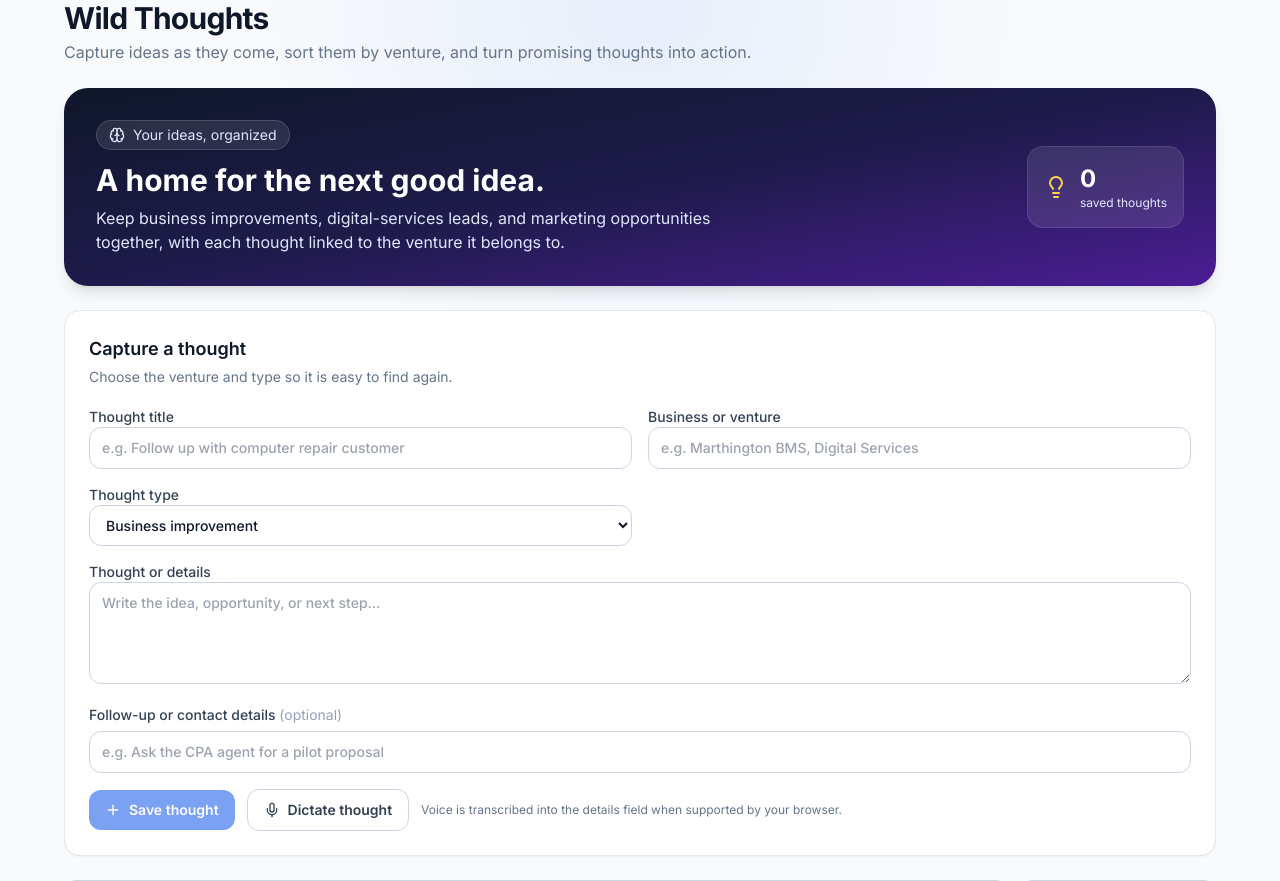
WildThoughts › edits a saved thought
Type "Original idea" into the field labelled "Thought title" at (360, 448), box [89, 427, 632, 469]
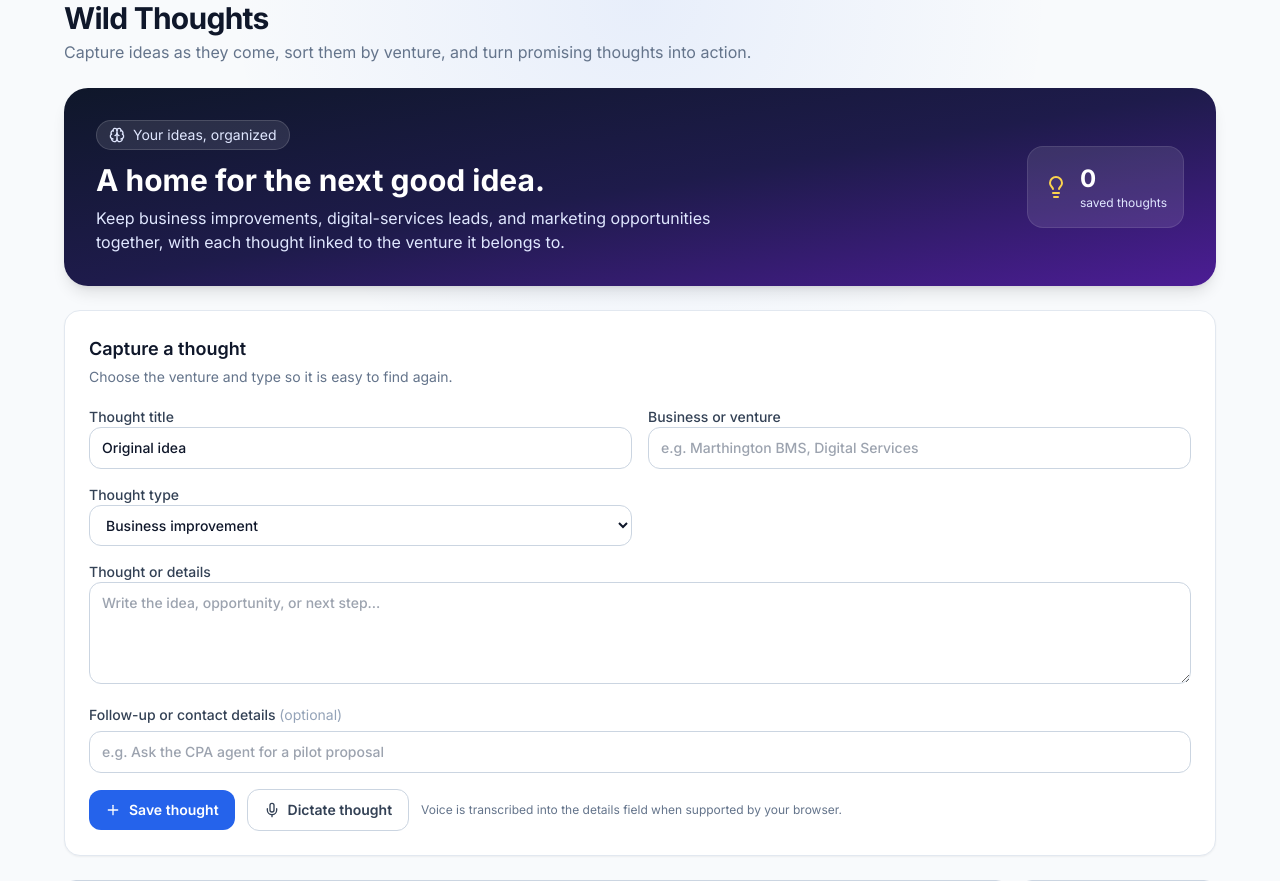
Type "Original details" into the text box labelled "Thought or details" at (640, 633), box [89, 582, 1191, 684]
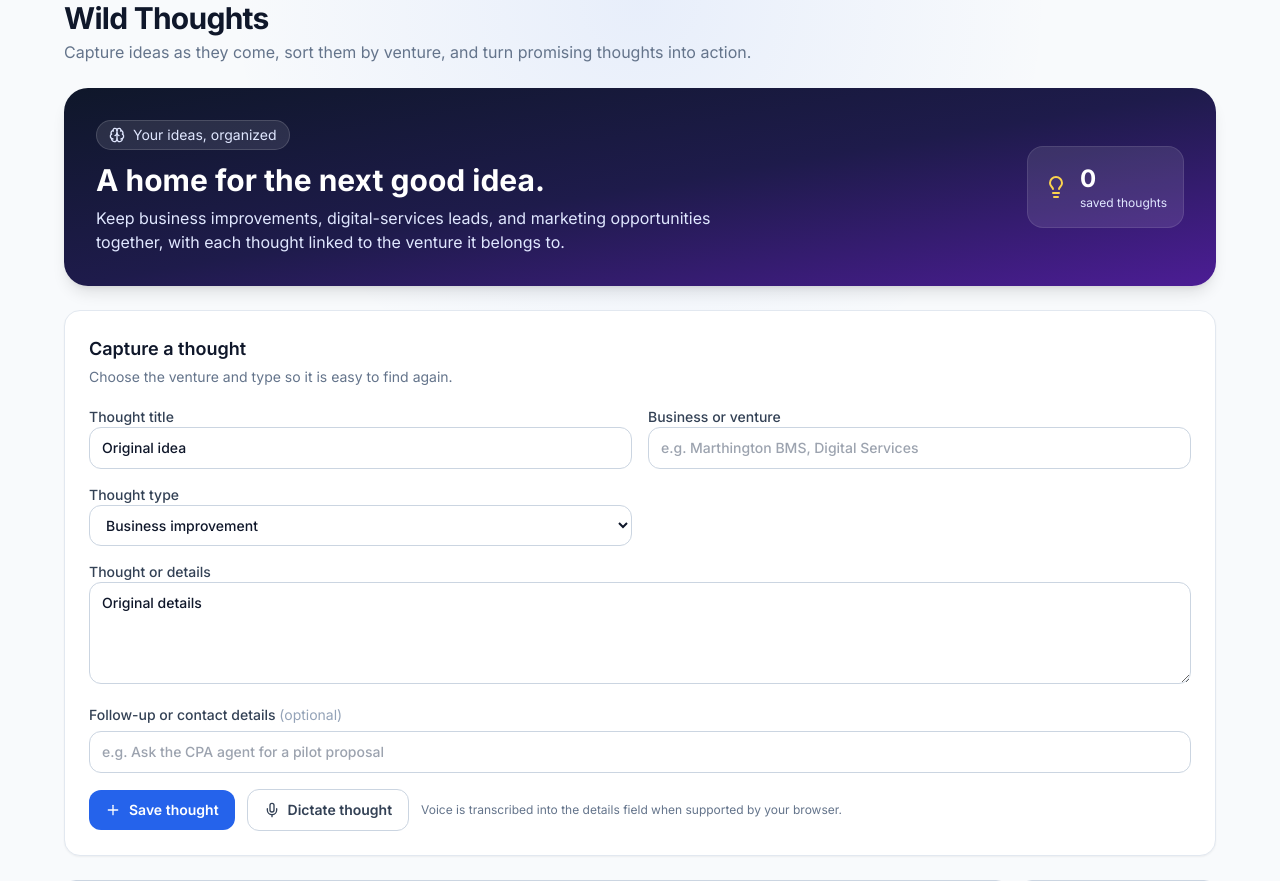
Click the button "Save thought" at (162, 810), box [89, 790, 235, 830]
(page scrolled)
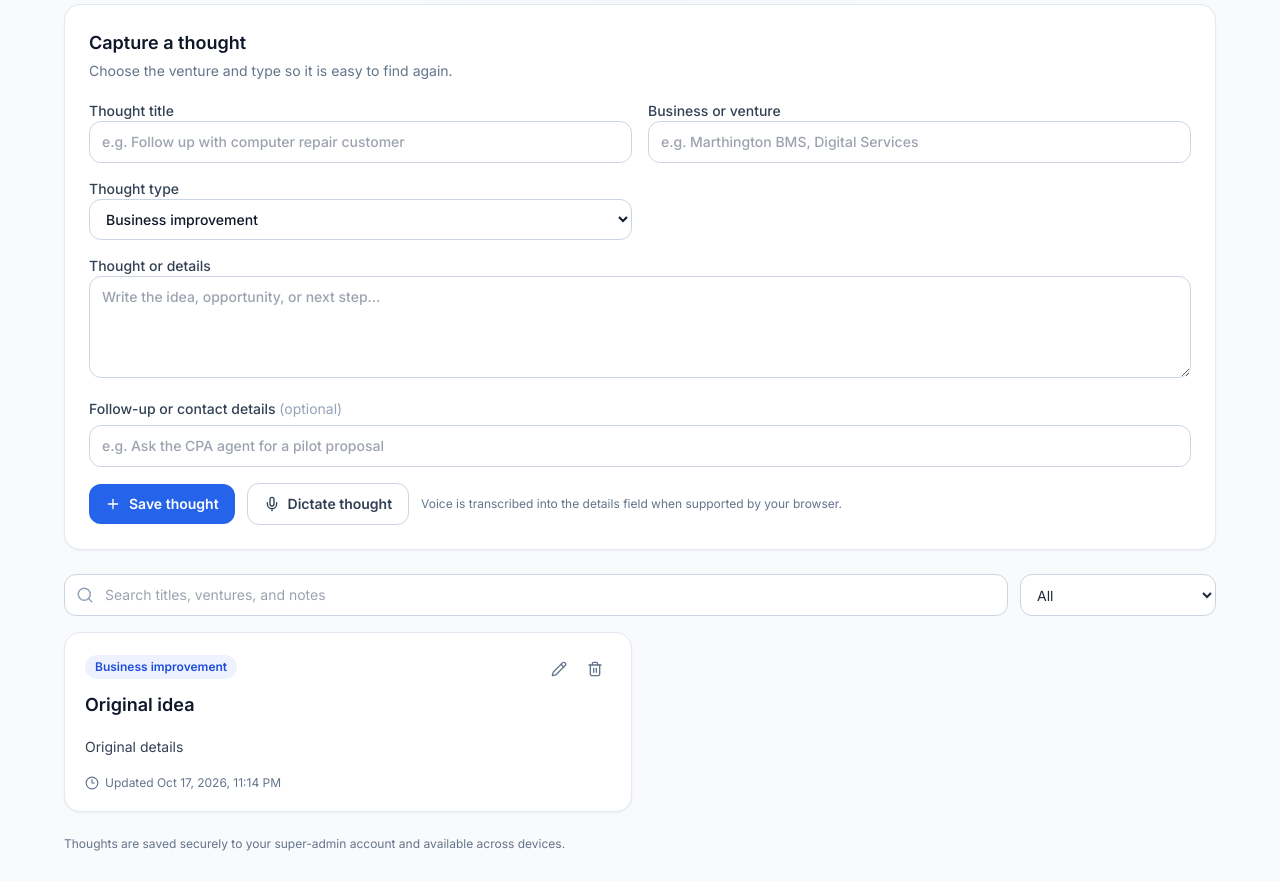
Click the button named "Edit Original idea" at (559, 669), box [543, 653, 575, 685]
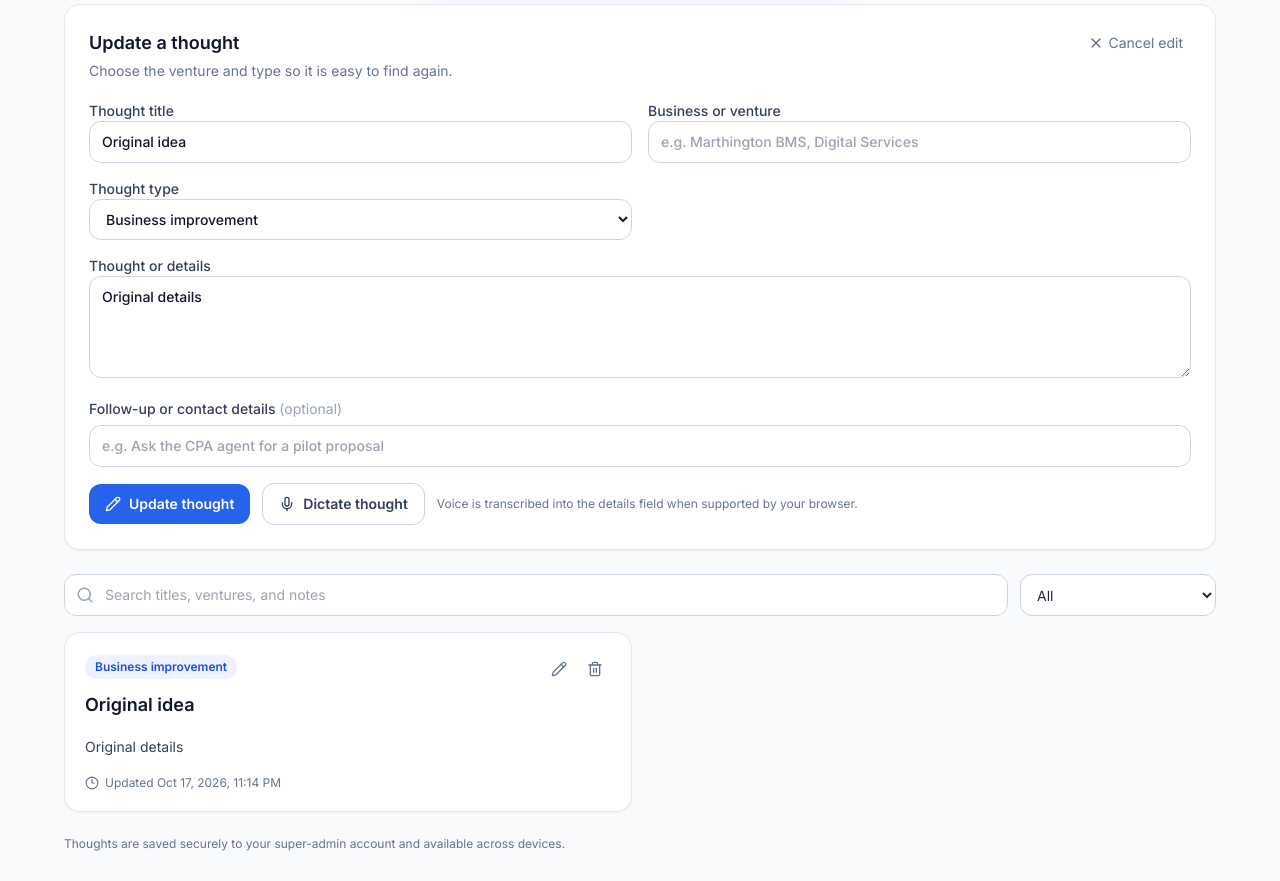
Replace the text in the field labelled "Thought title" with "Updated idea" at (360, 142), box [89, 121, 632, 163]
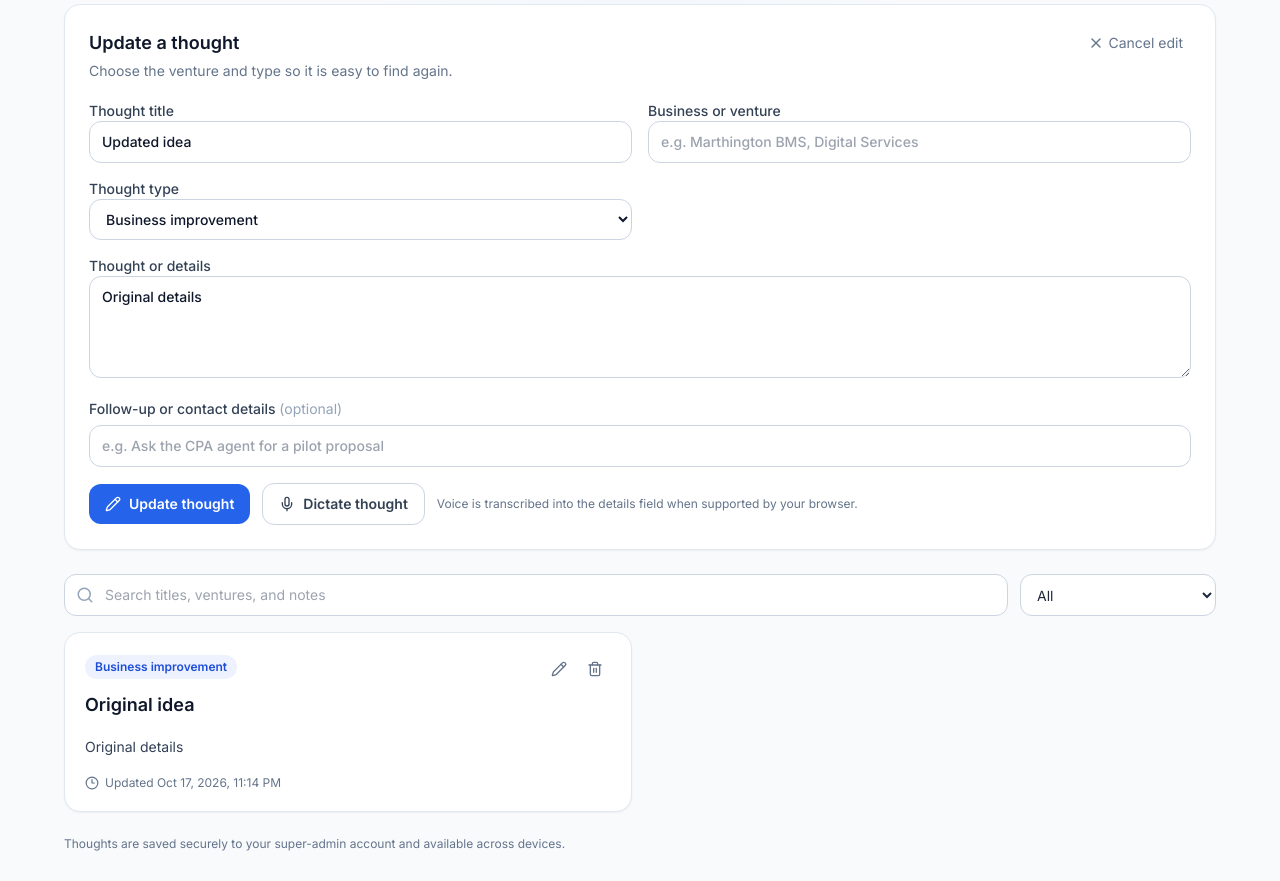
Click the button "Update thought" at (170, 504), box [89, 484, 250, 524]
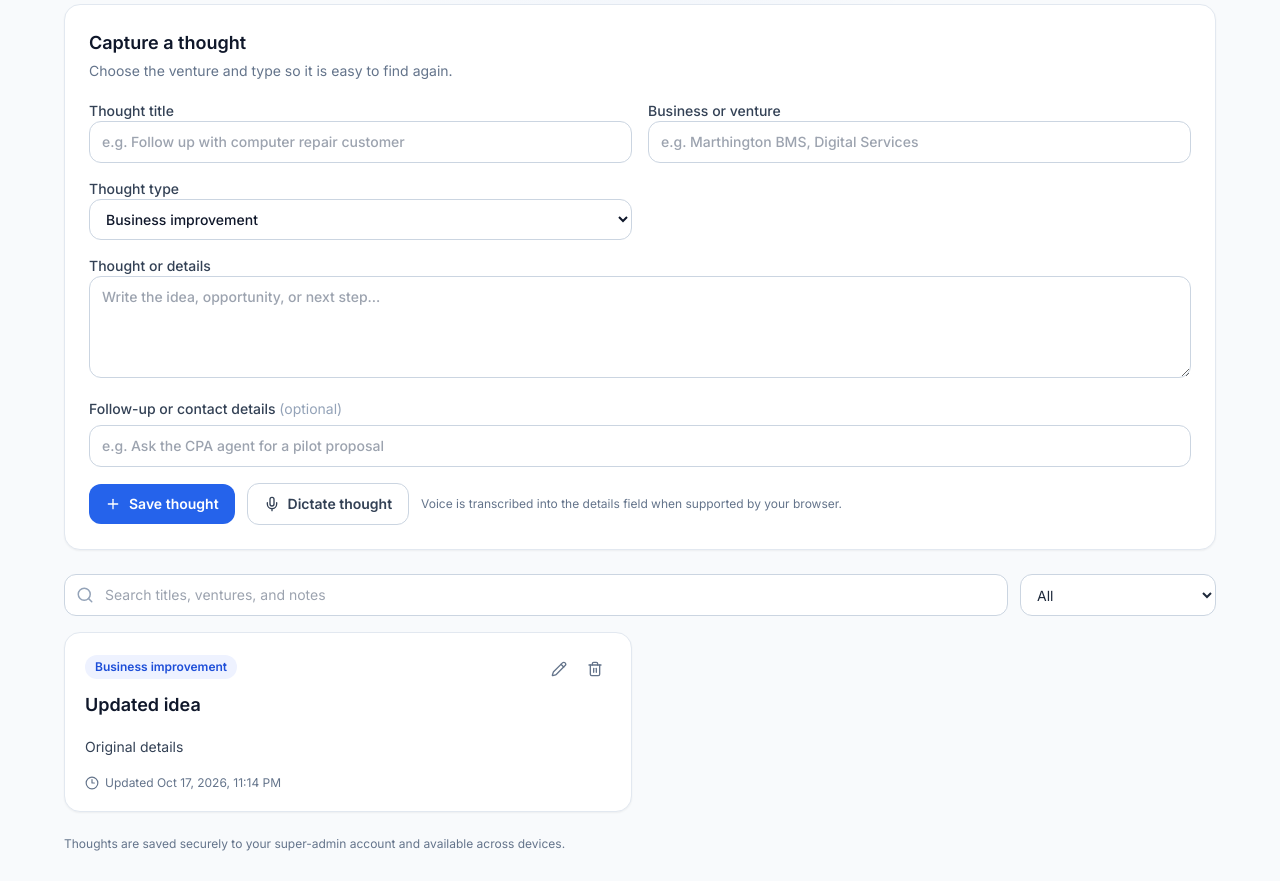
Check: the heading "Updated idea" is shown, box [85, 694, 201, 715]
Check: the heading "Original idea" is gone
